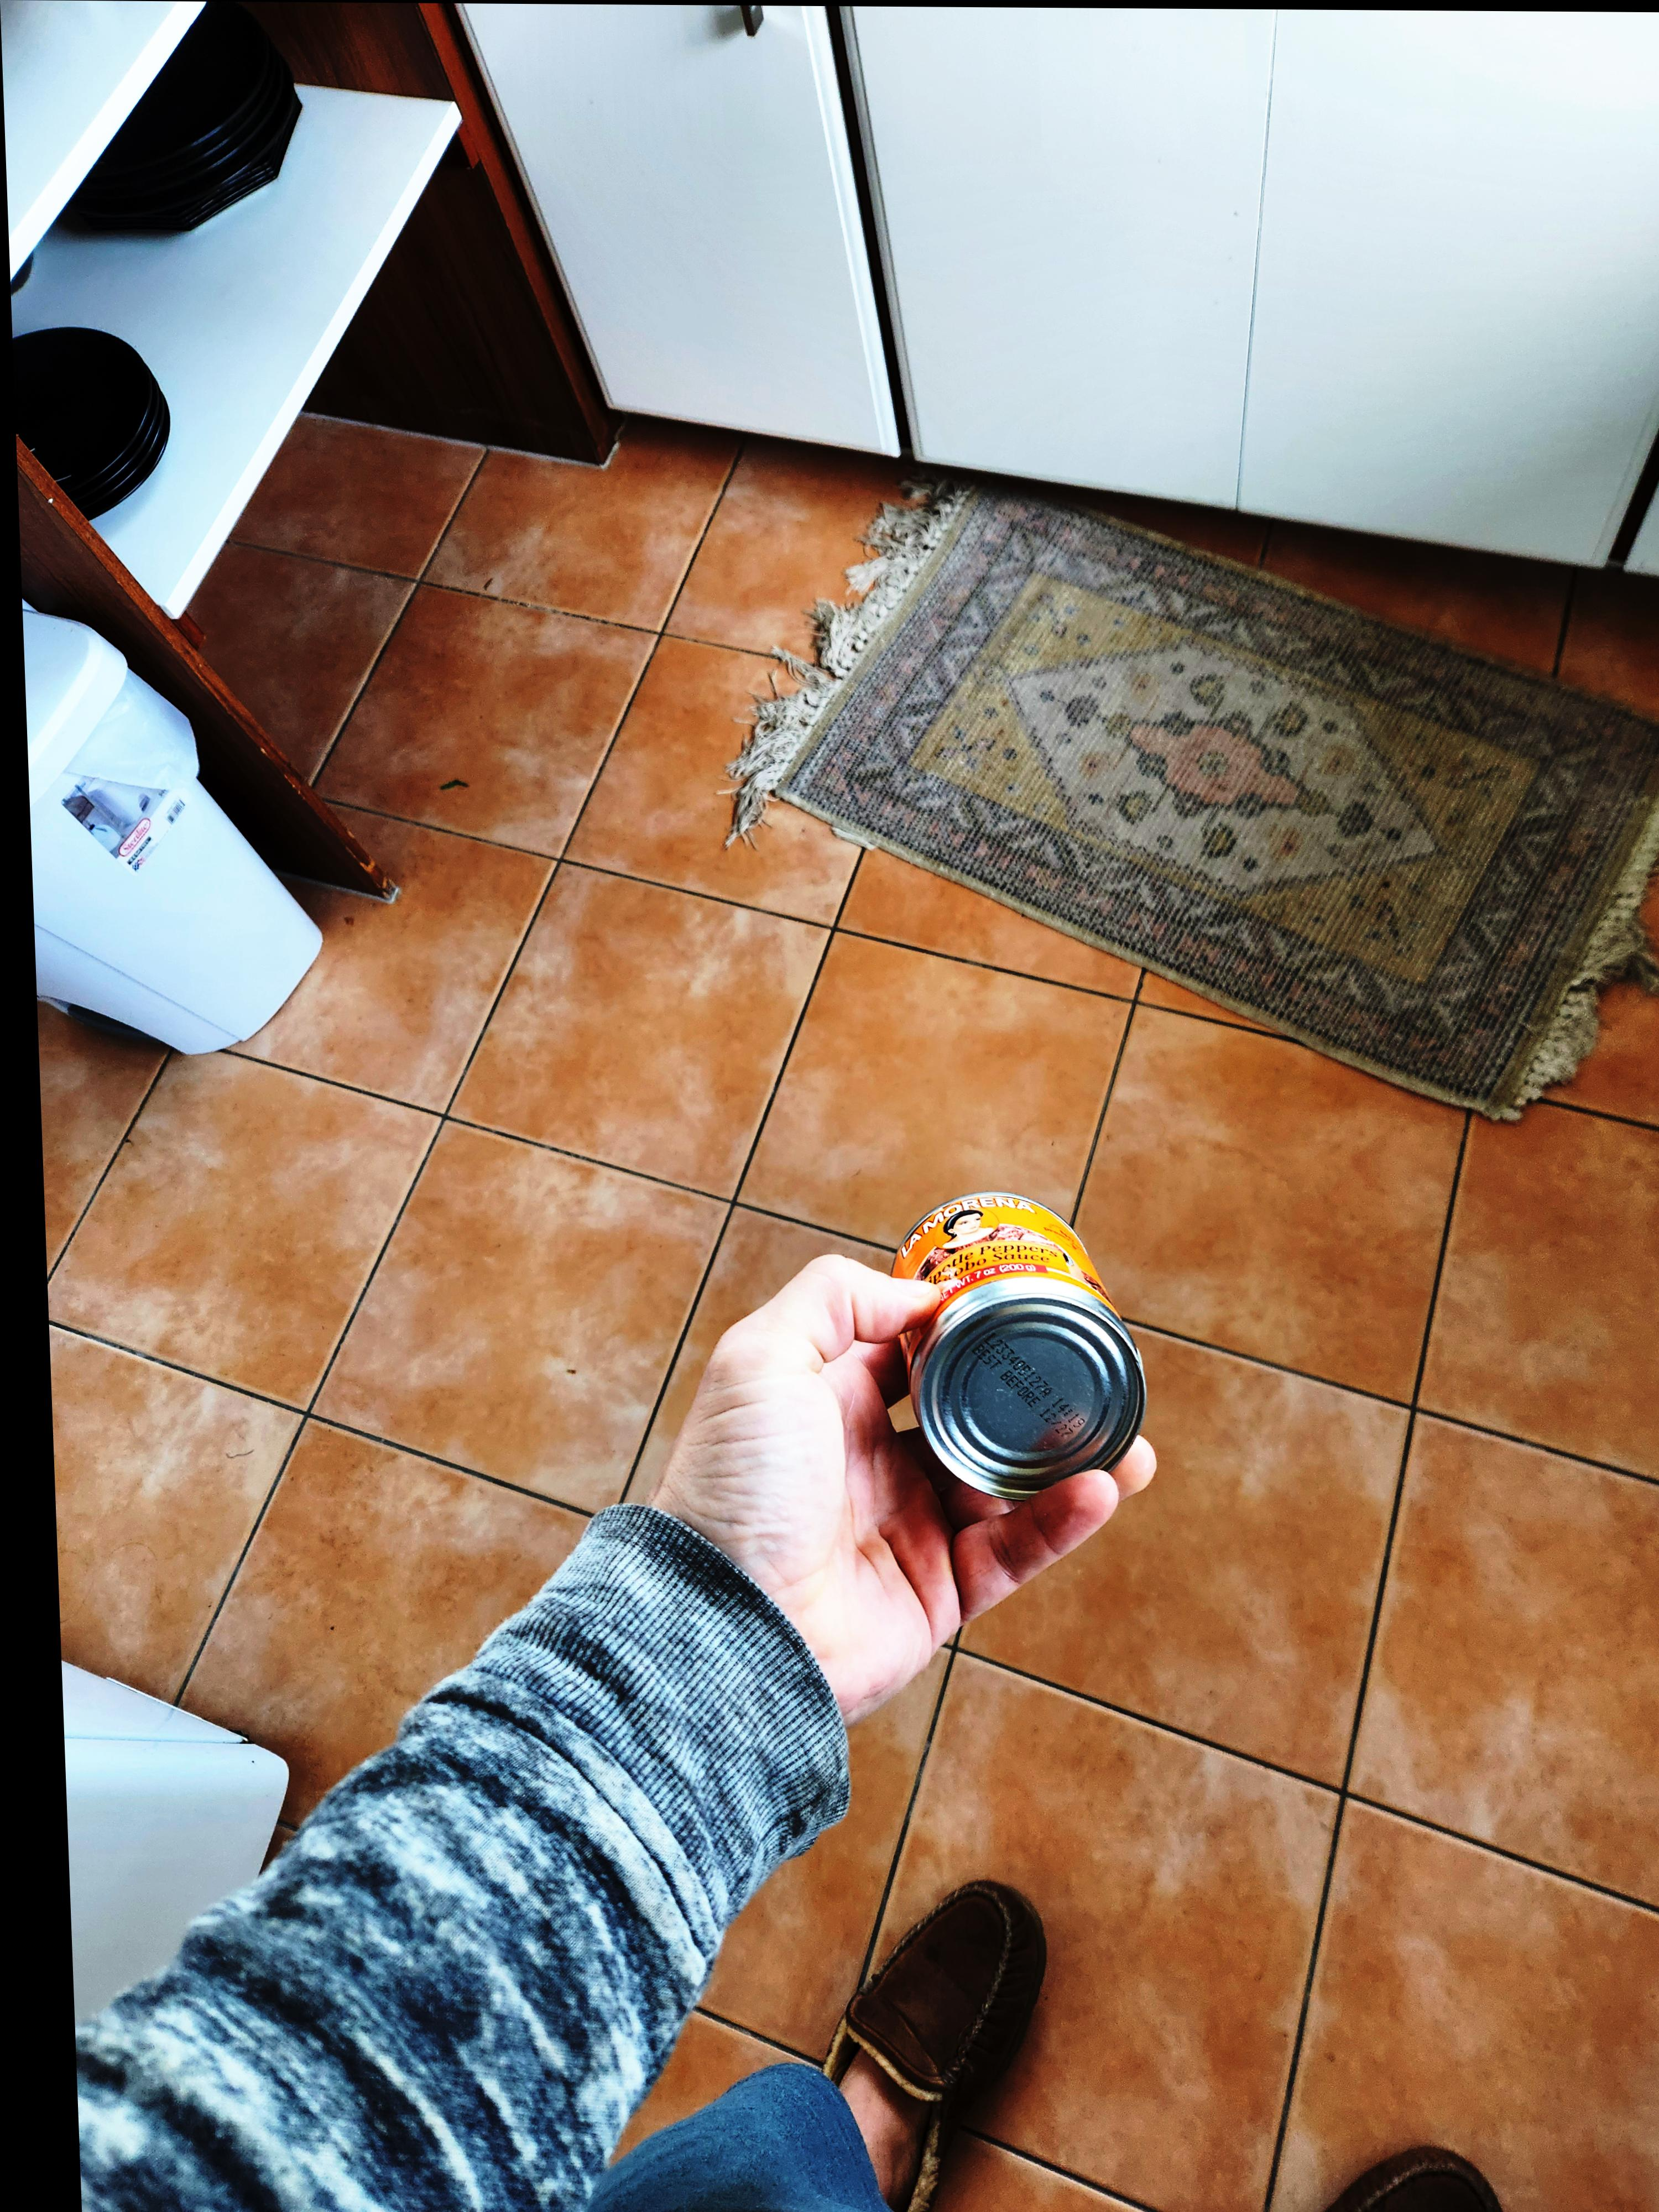beans: (660, 1581, 859, 2003)
